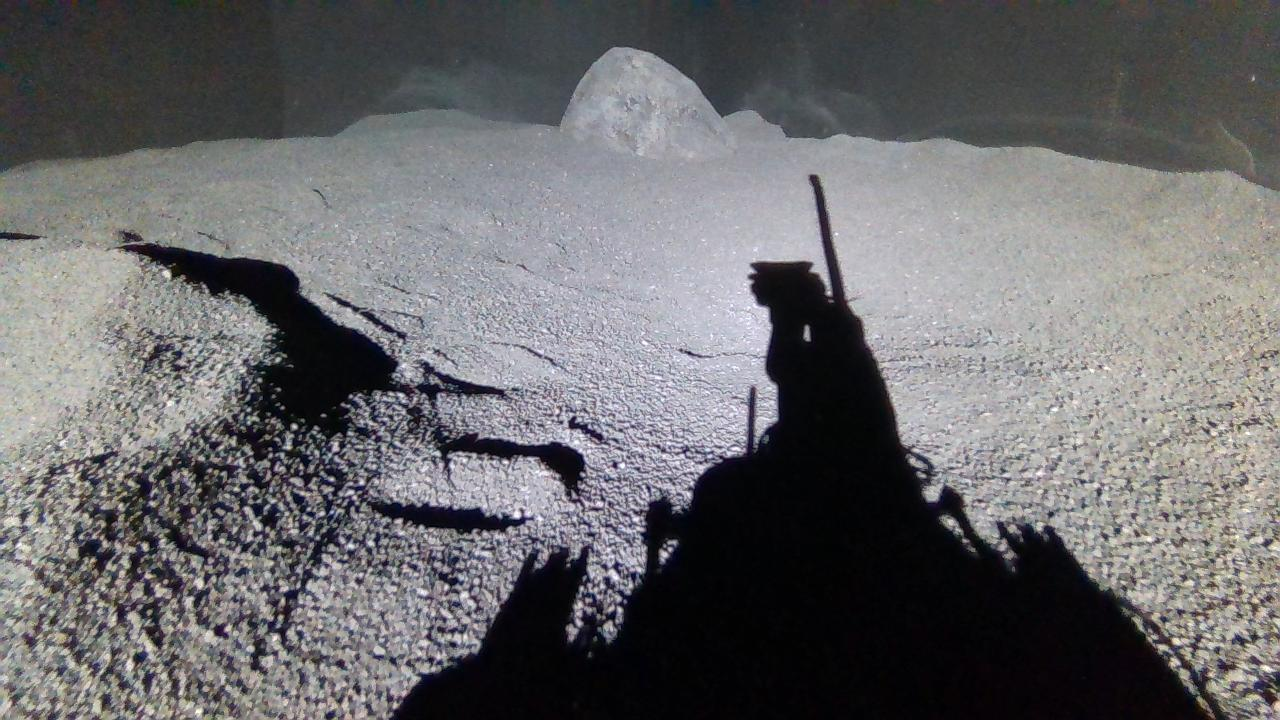rock: (560, 46, 737, 159)
